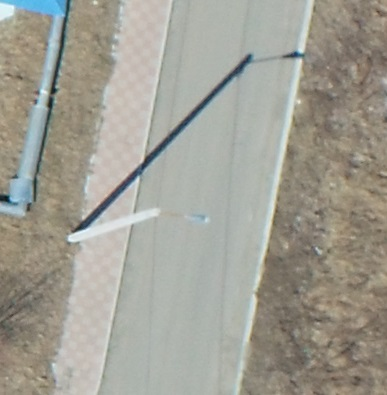opora: (67, 151, 210, 242)
